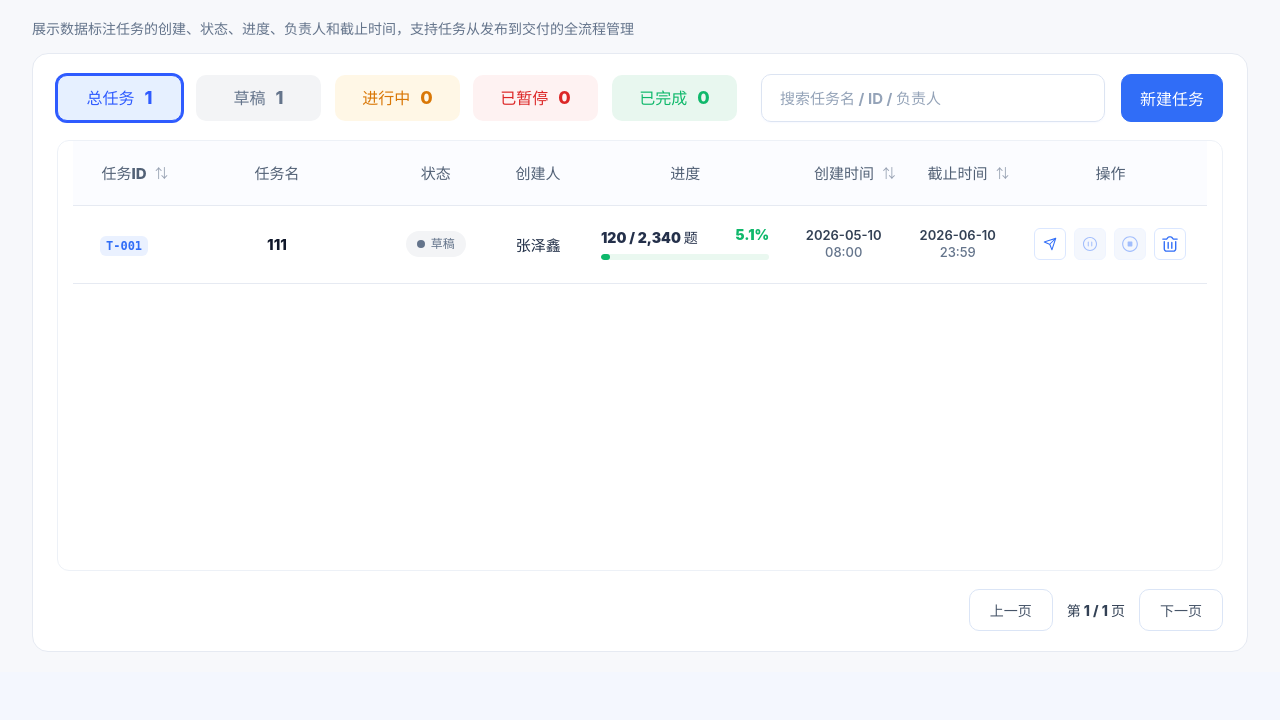
Test: TaskListPage › 确认保存草稿但表单校验失败时关闭确认弹窗并保留抽屉
expect the table named "任务列表" is shown: met, box [73, 141, 1207, 284]
Click the button "新建任务".
click(1172, 98)  # box [1121, 74, 1223, 122]
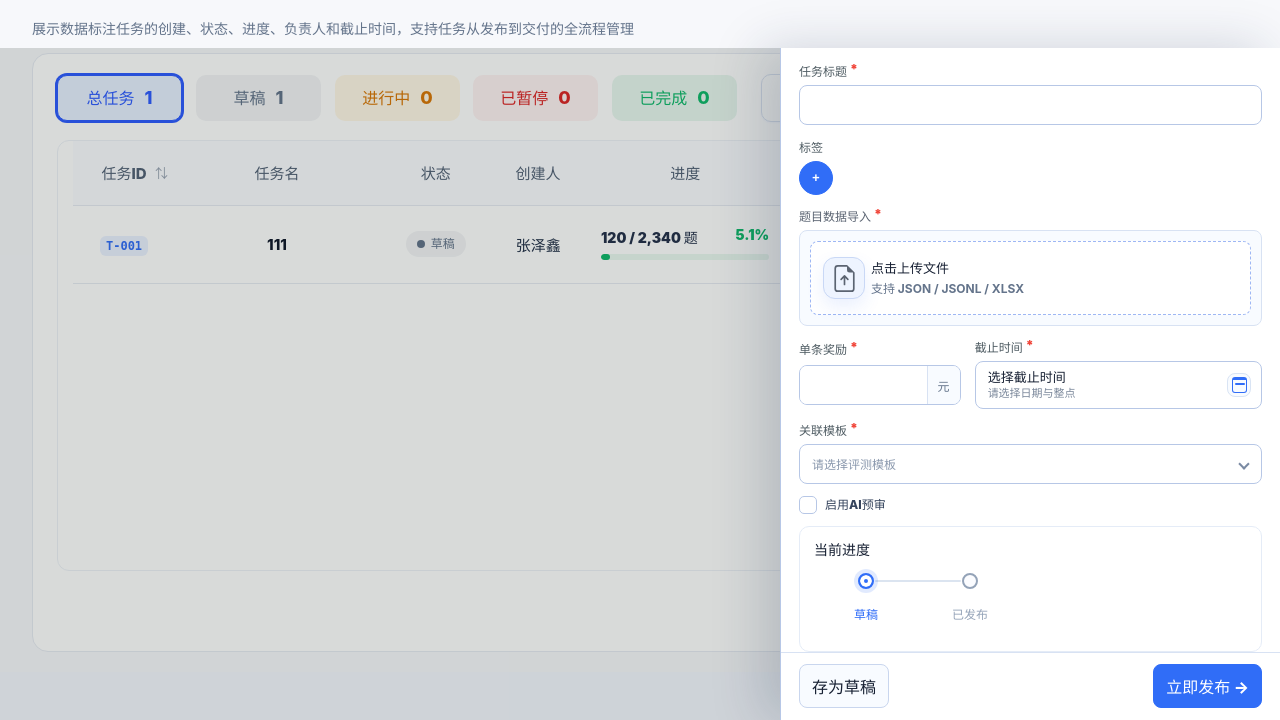
Type "111" into the field labelled "任务标题".
click(1030, 105); type("111")  # box [799, 85, 1262, 125]
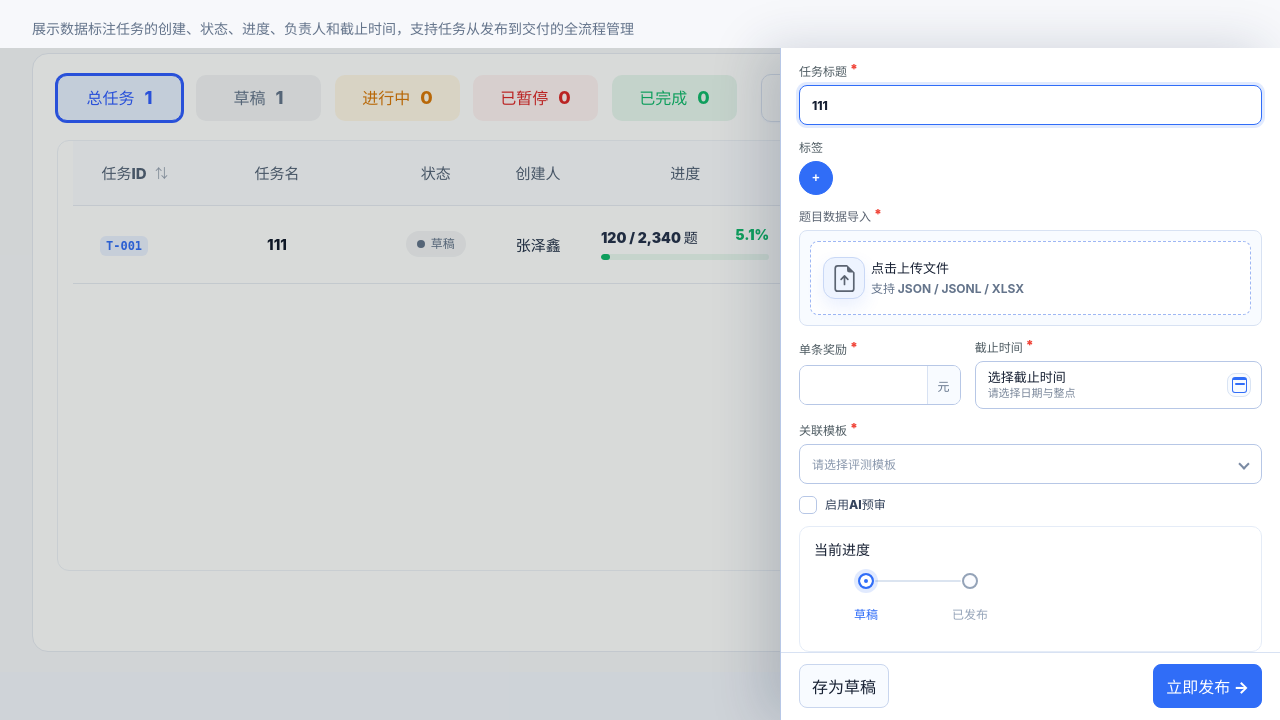
expect the element with class "task-publish-drawer-shell" is shown: met
Click the element with class "task-publish-drawer-shell".
click(640, 384)  # box [0, 48, 1279, 719]
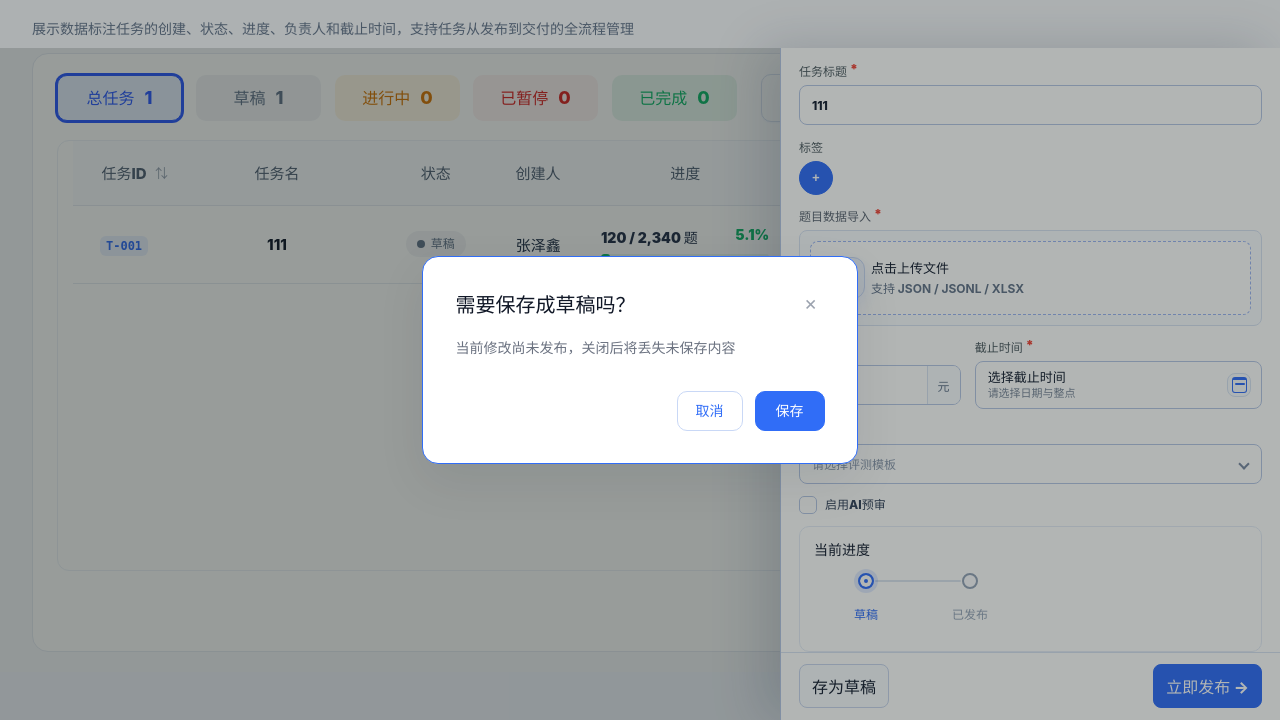
expect the heading "需要保存成草稿吗？" is shown: met, box [455, 289, 635, 318]
Click the button "保存".
click(790, 411)  # box [755, 391, 825, 431]
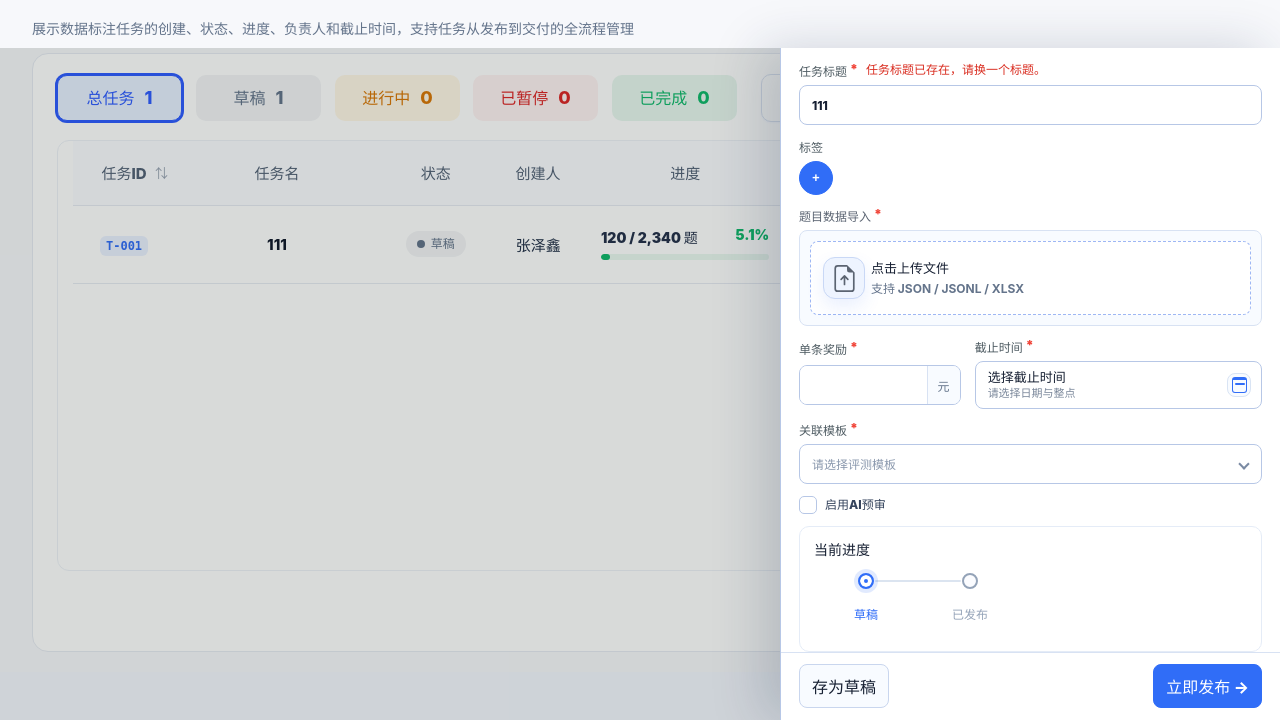
expect the element named "发布任务抽屉" is shown: met, box [780, 48, 1279, 719]
expect the heading "需要保存成草稿吗？" is gone: met
